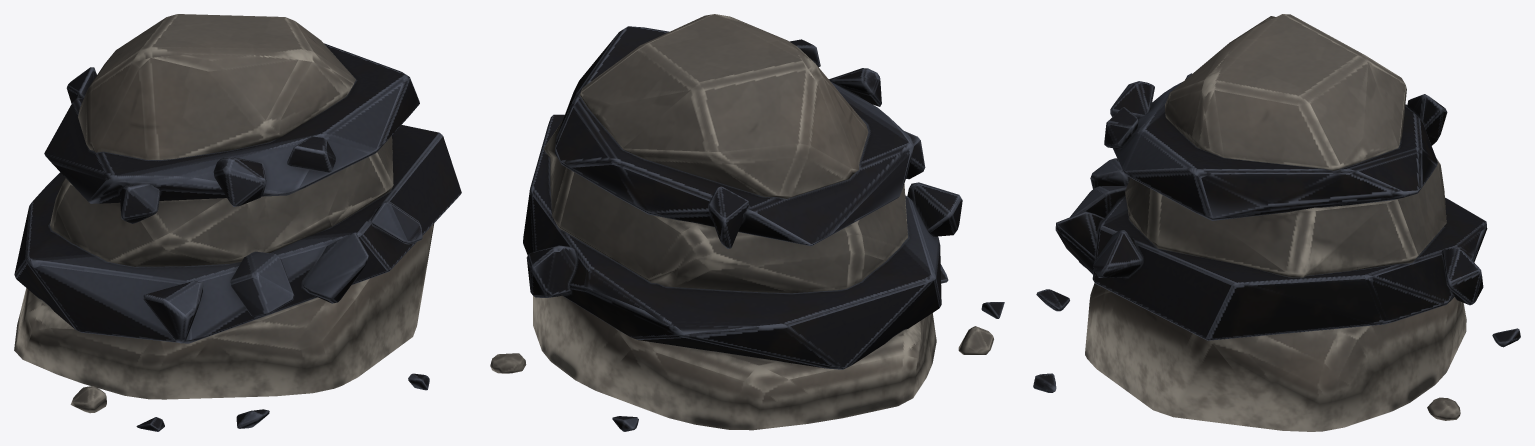
Rendered from coal_ore.fbx.
3 renders of one model, left to right at view 1: azimuth 30°, elevation 25°; view 2: azimuth 150°, elevation 25°; view 3: azimuth 270°, elevation 25°, orthographic. The views are drawn at different scales.
Visible parts, largest first — view 1: CoalOre_Body; view 2: CoalOre_Body; view 3: CoalOre_Body.
Part boxes in pixels (x1,y1,x2,y2): CoalOre_Body: (14, 14, 461, 431); CoalOre_Body: (490, 14, 1004, 431); CoalOre_Body: (1033, 14, 1520, 431).
Size of the model in its own units: 4.57 by 3.16 by 4.69.
1 material, 1 textured.
